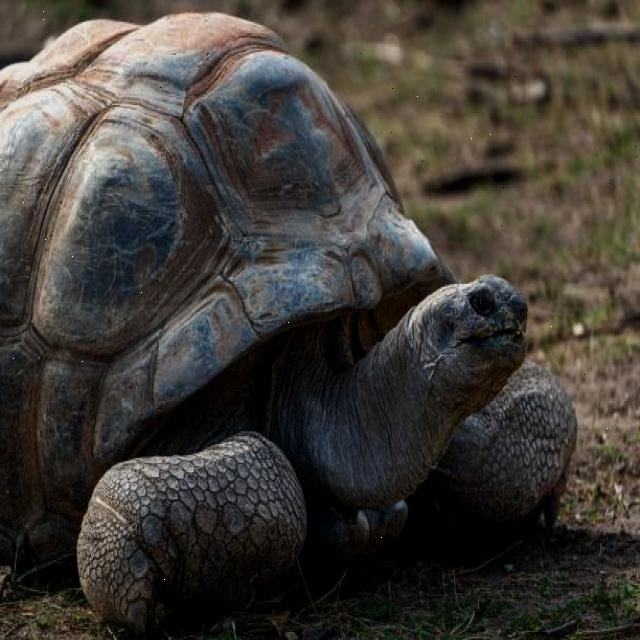tortoise: (1, 18, 582, 612)
